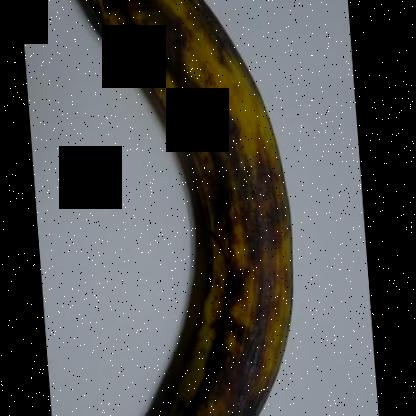overripe: (60, 0, 308, 415)
